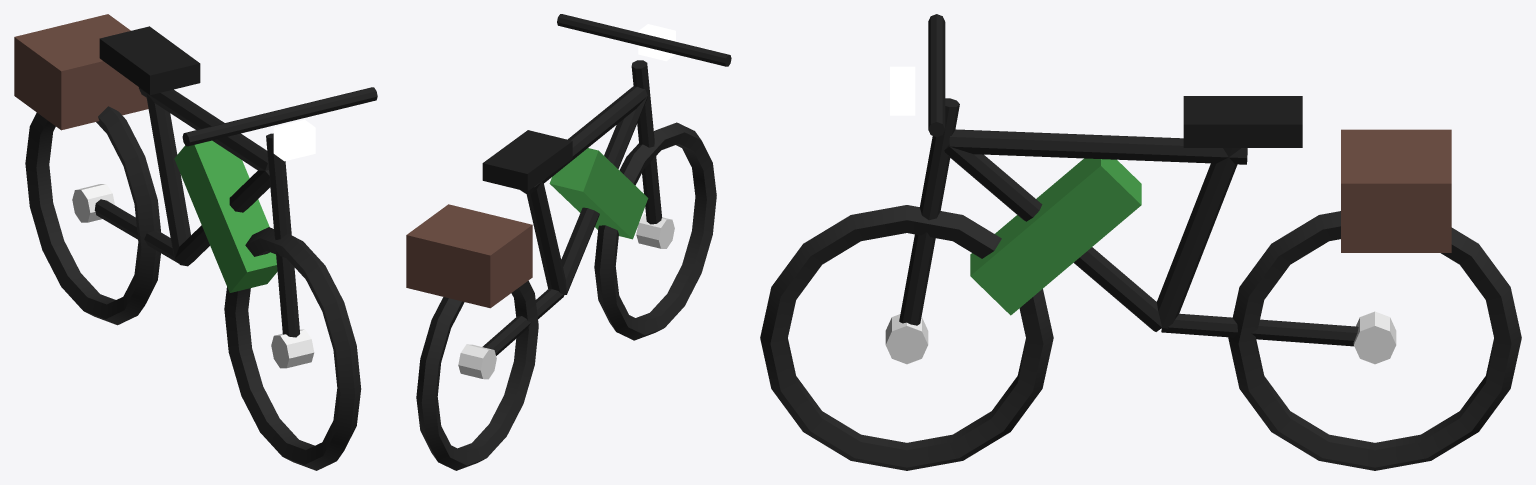
Rendered from town_ebike.glb.
3 renders of one model, left to right at view 1: azimuth 30°, elevation 25°; view 2: azimuth 150°, elevation 25°; view 3: azimuth 270°, elevation 25°, orthographic. The views are drawn at different scales.
Parts seen in each view (by area): view 1: TownEbike_body, Wheel_F.001, Wheel_R.001; view 2: TownEbike_body, Wheel_F.001, Wheel_R.001; view 3: TownEbike_body, Wheel_F.001, Wheel_R.001.
Part boxes in pixels (x1,y1,x2,y2): TownEbike_body: [14, 14, 377, 337]; Wheel_F.001: [224, 227, 361, 470]; Wheel_R.001: [25, 106, 160, 325]; TownEbike_body: [406, 14, 731, 355]; Wheel_F.001: [594, 122, 716, 340]; Wheel_R.001: [416, 280, 538, 470]; TownEbike_body: [890, 14, 1451, 346]; Wheel_F.001: [760, 205, 1053, 470]; Wheel_R.001: [1228, 211, 1521, 470].
Bounding box in the file's own units: 0.6 × 1.04 × 1.79.
